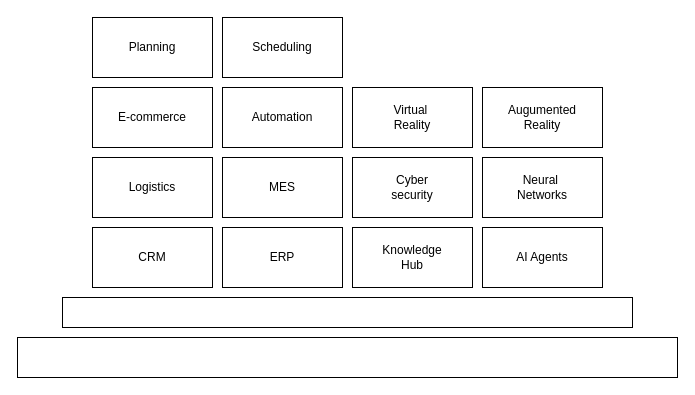
Some shapes in this 695 by 395 pixel diagram are drawn without their labels. The centre of each missing label's shape, as x and y in pixels:
Simulations: [347,312]
Turtle intelligence: [347,357]
